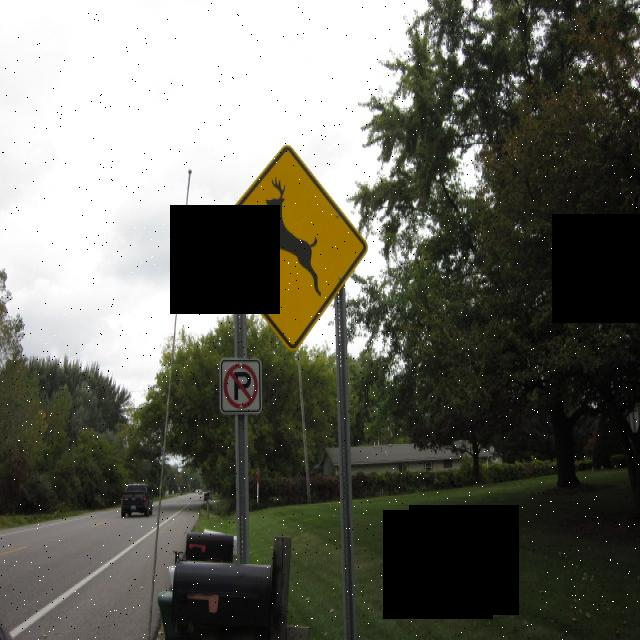regulatory: (217, 357, 265, 415)
warning: (206, 141, 365, 351)
